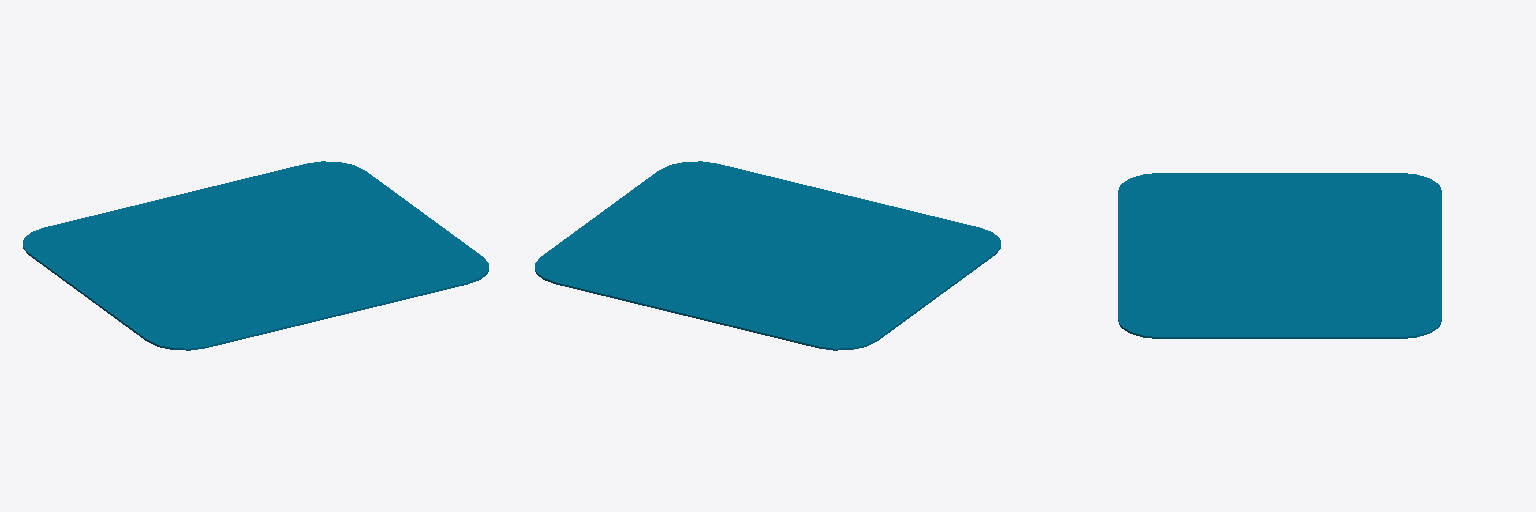
The model's file is mousepad.obj.
3 renders of one model, left to right at view 1: azimuth 30°, elevation 25°; view 2: azimuth 150°, elevation 25°; view 3: azimuth 270°, elevation 25°, orthographic.
Visible parts, largest first — view 1: Pad_立方体; view 2: Pad_立方体; view 3: Pad_立方体.
Boxes of the visible parts, x1,y1,x2,y2 form: Pad_立方体: [23, 161, 488, 350]; Pad_立方体: [535, 161, 1000, 350]; Pad_立方体: [1118, 173, 1441, 338].
Bounding box in the file's own units: 0.18 × 0.001 × 0.15.